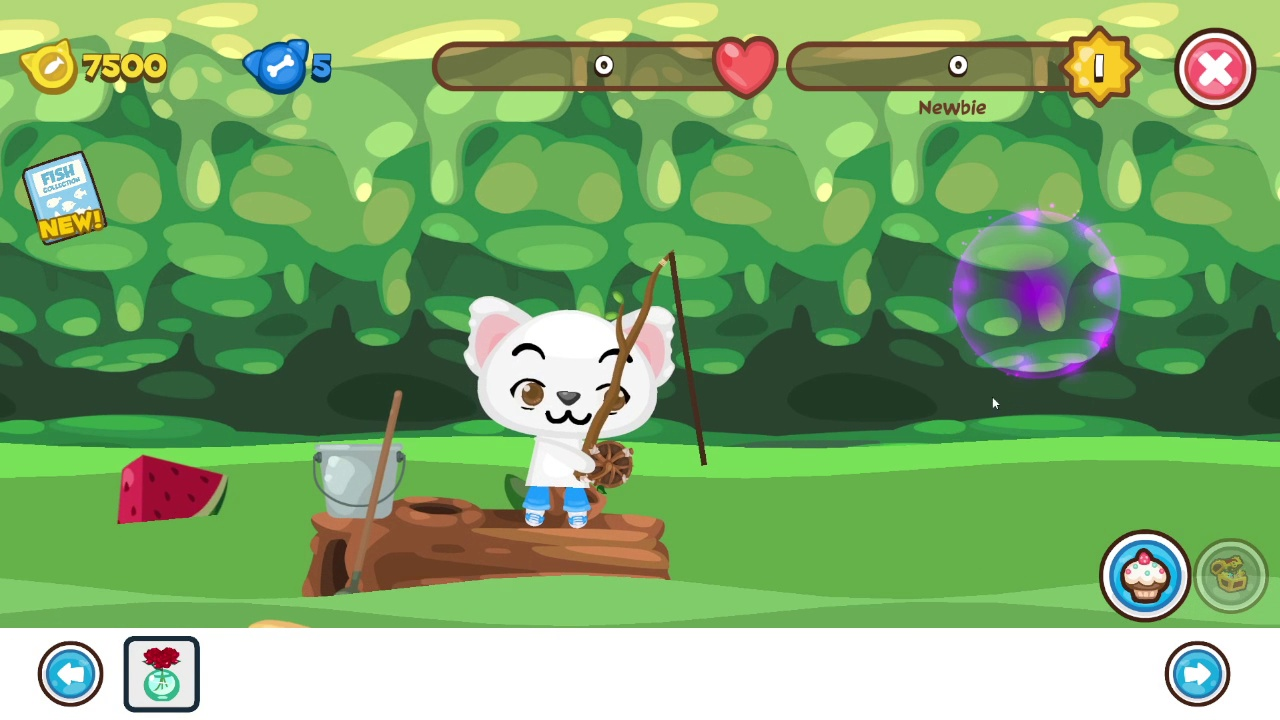point: (947, 205, 1126, 383)
